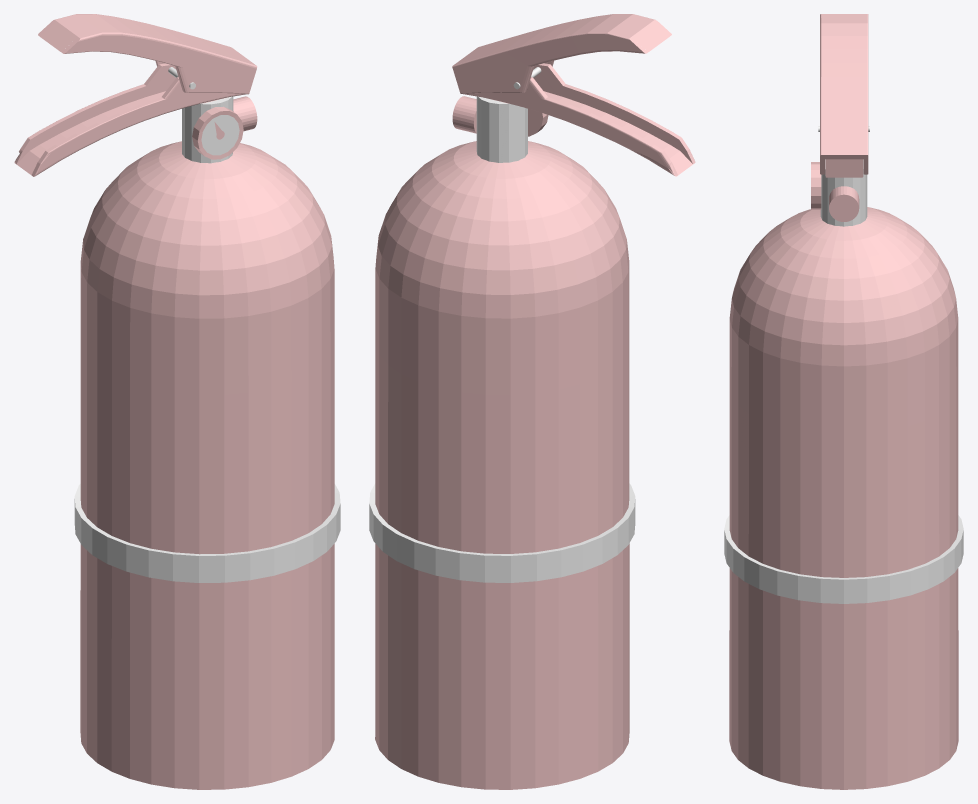
The model's file is notdoneyet279.gltf.
The picture shows the model from 3 angles, left to right: view 1: azimuth 30°, elevation 25°; view 2: azimuth 150°, elevation 25°; view 3: azimuth 270°, elevation 25°; orthographic projection. The views are drawn at different scales.
Parts seen in each view (by area): view 1: Cube; view 2: Cube; view 3: Cube.
Boxes of the visible parts, x1,y1,x2,y2 form: Cube: (14,14,340,789); Cube: (369,14,695,789); Cube: (724,14,963,789).
Bounding box in the file's own units: 0.8126 × 1.93 × 0.6274.
